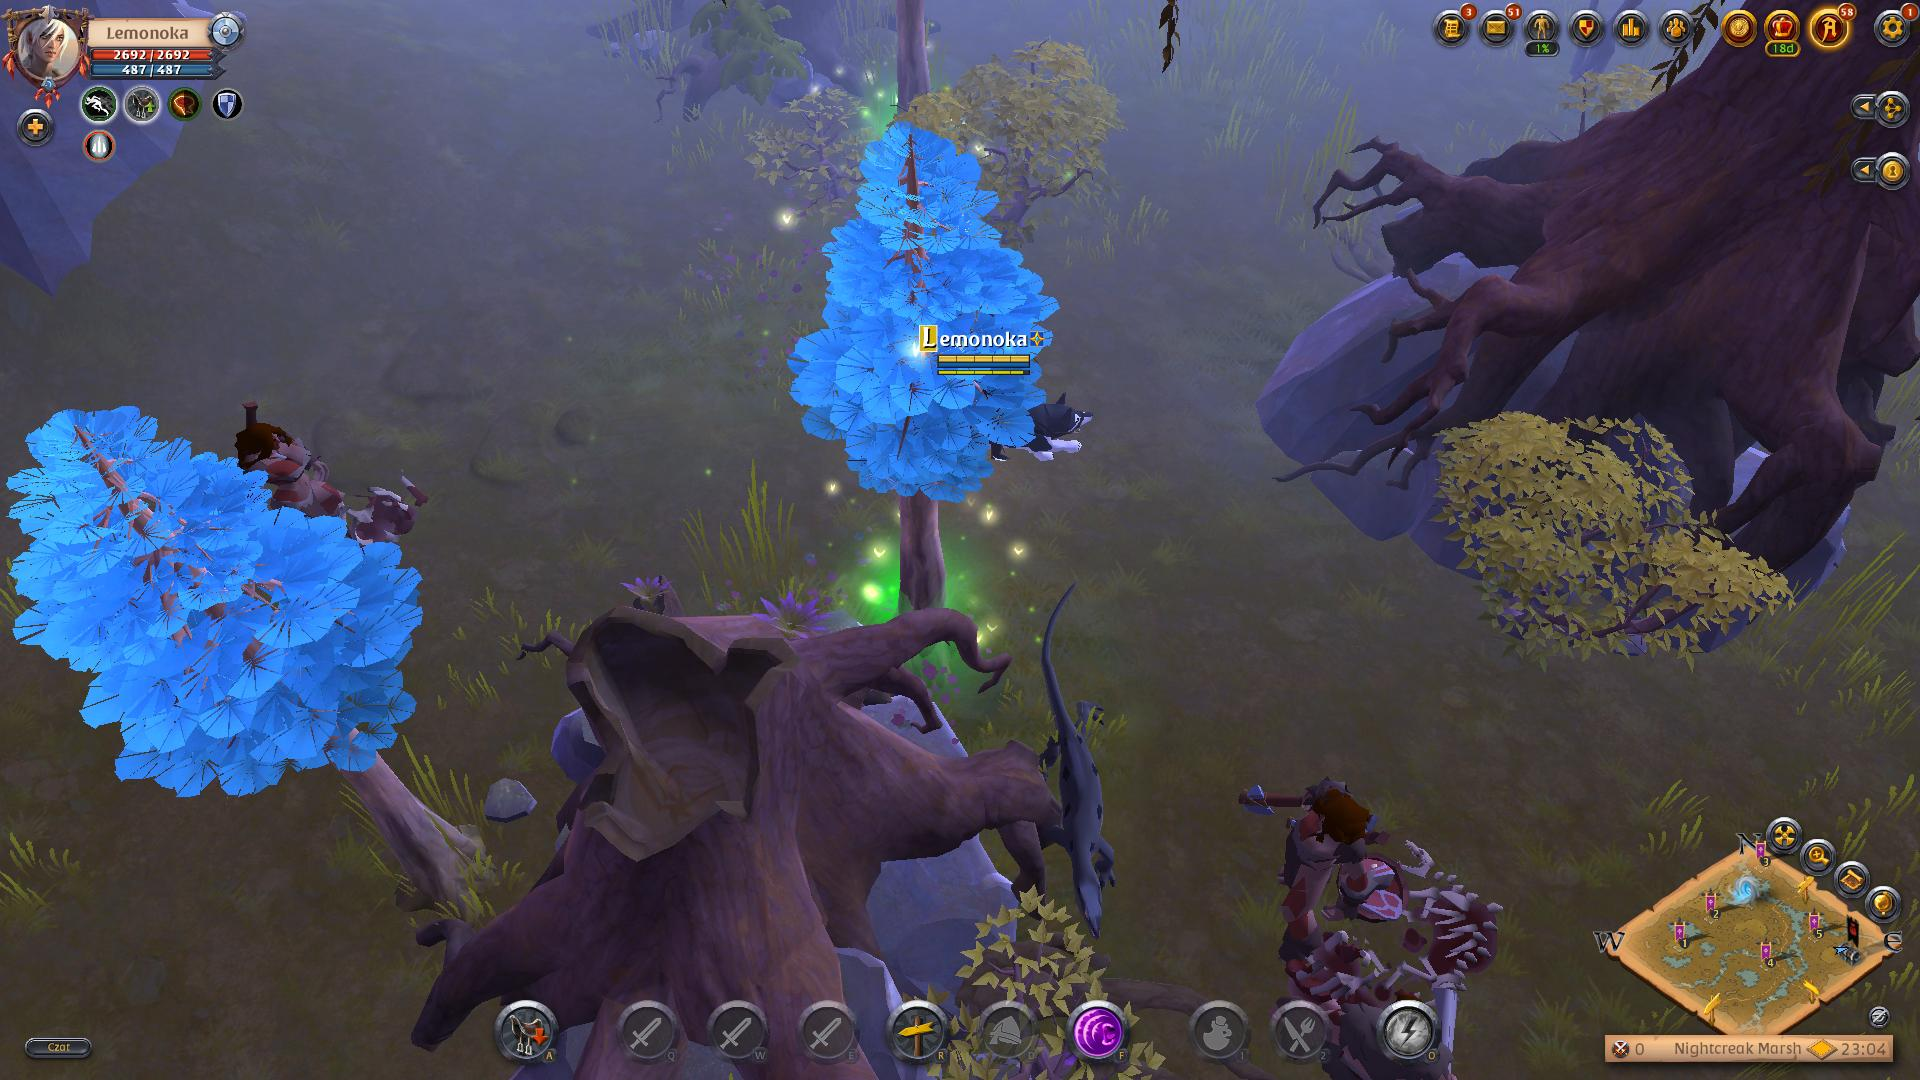wood tier 4: (0, 404, 429, 795)
